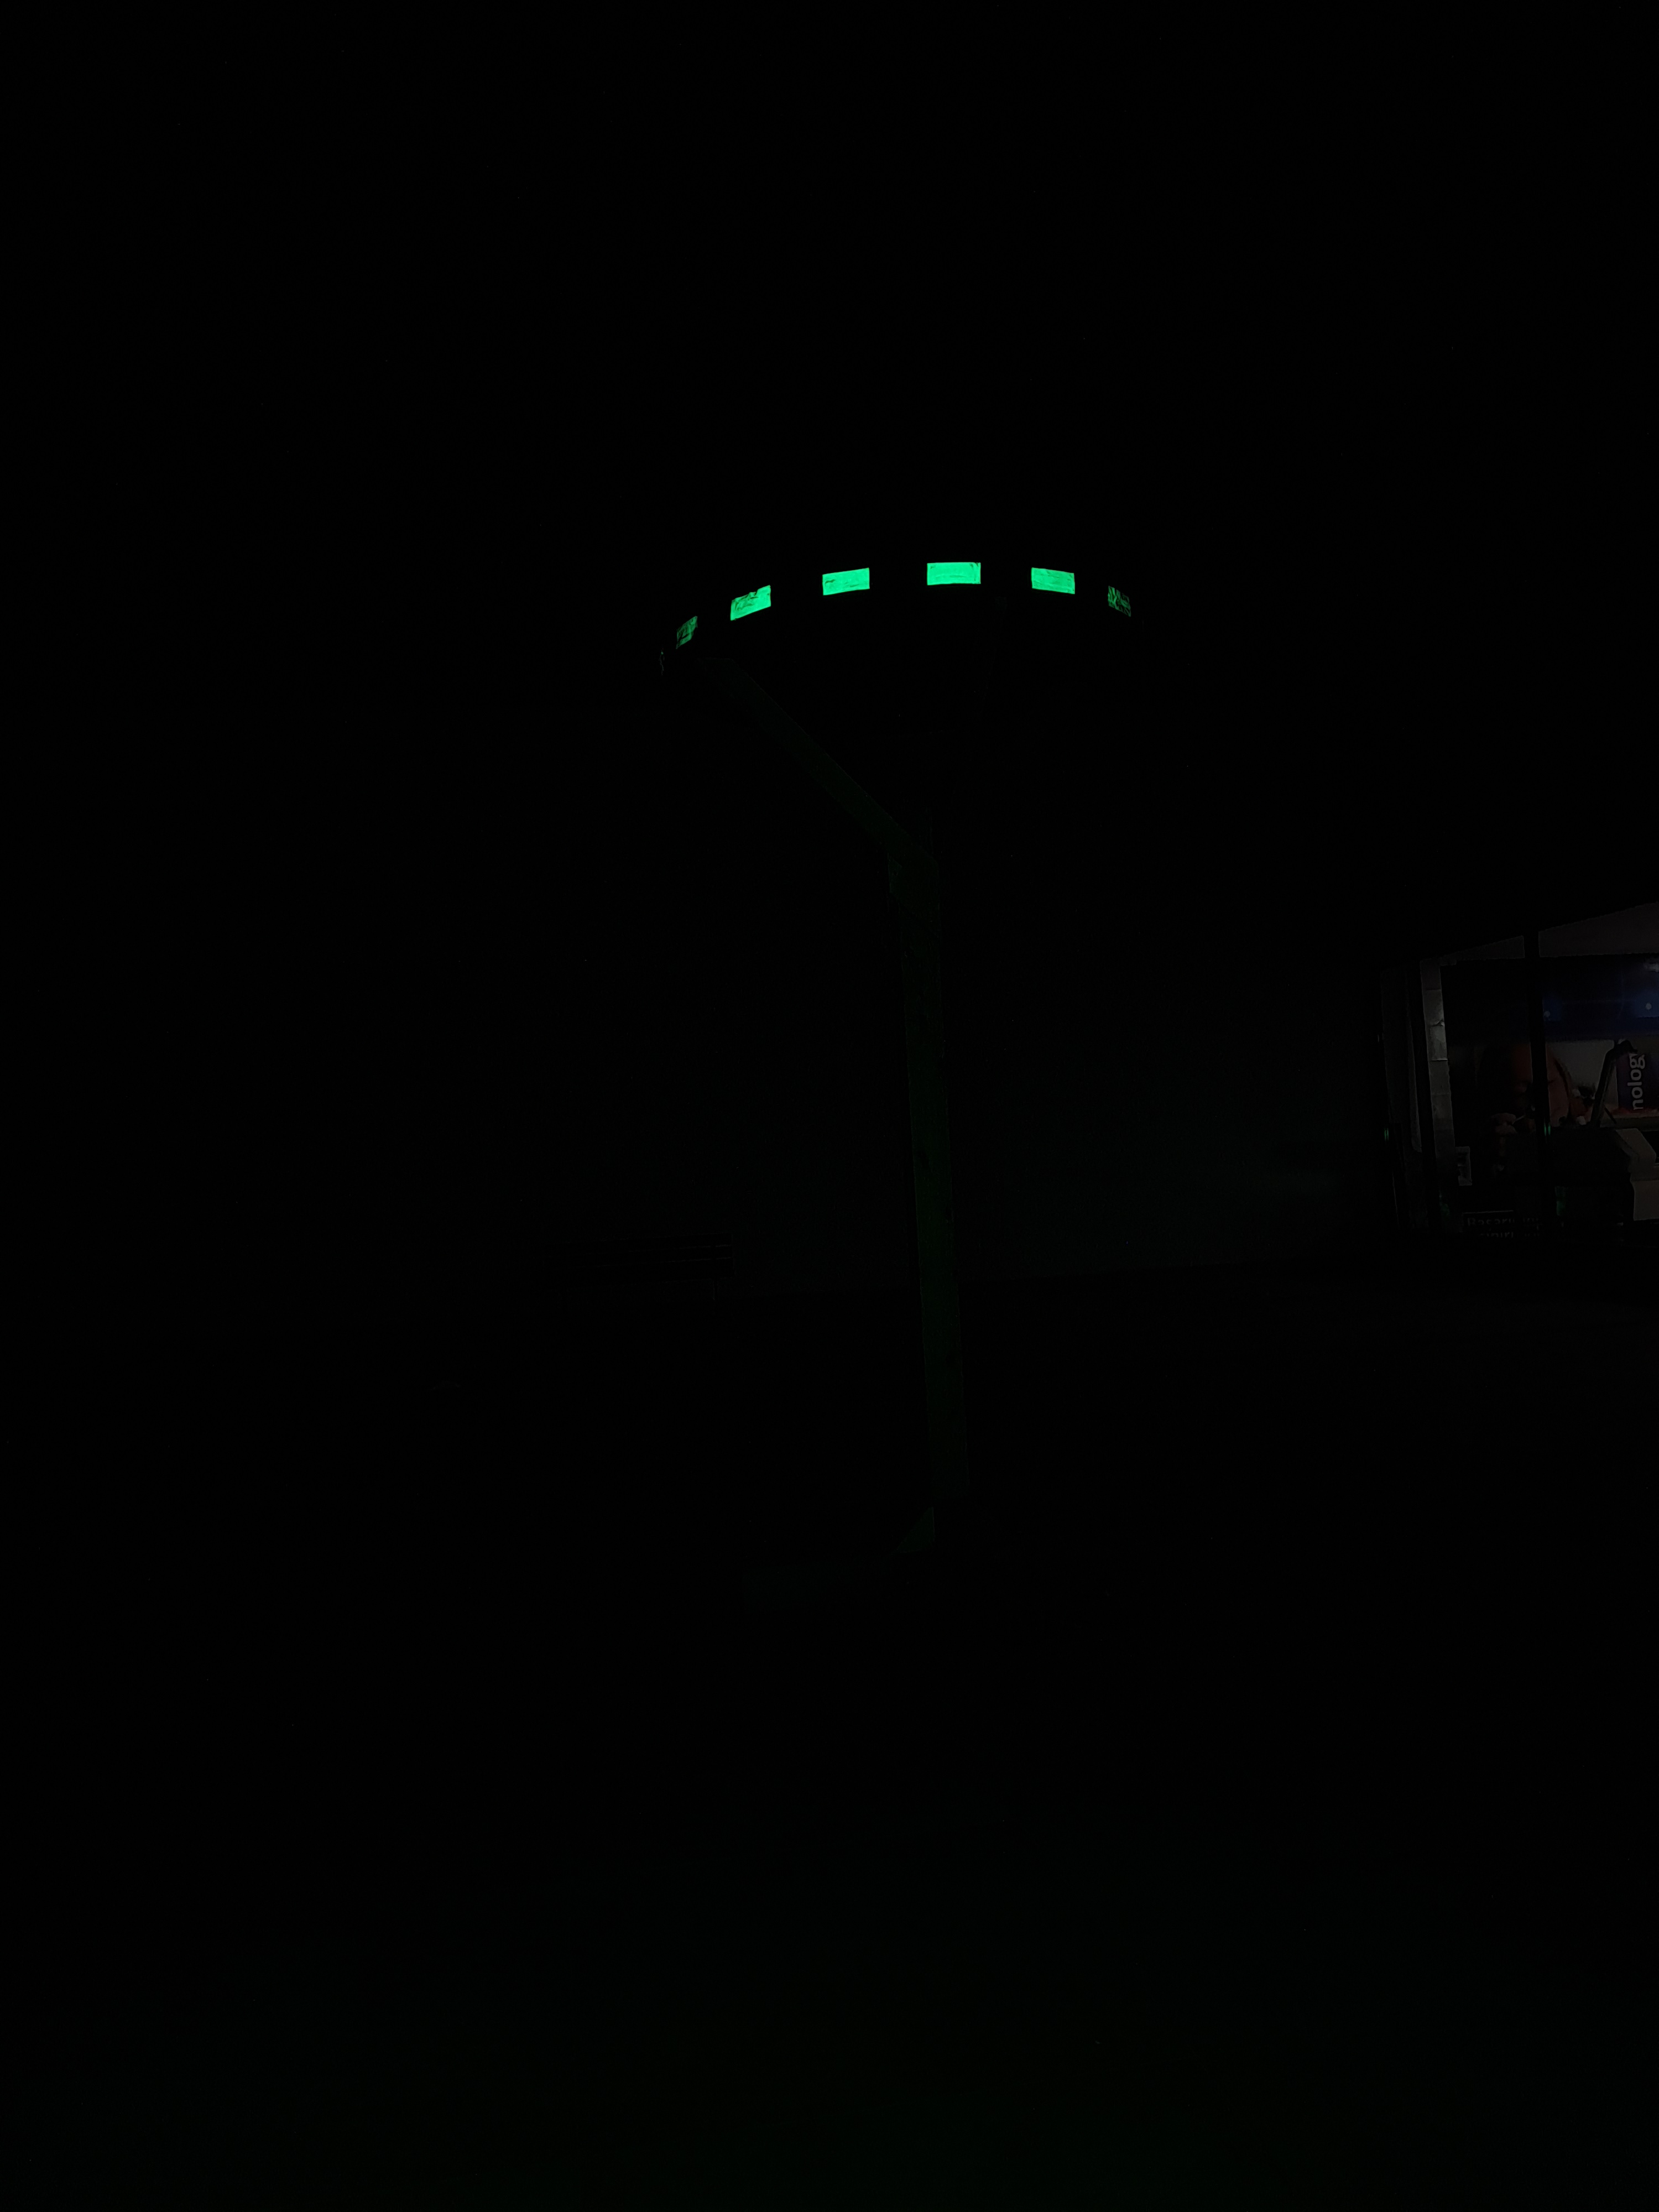hoop: (624, 554, 1161, 688)
